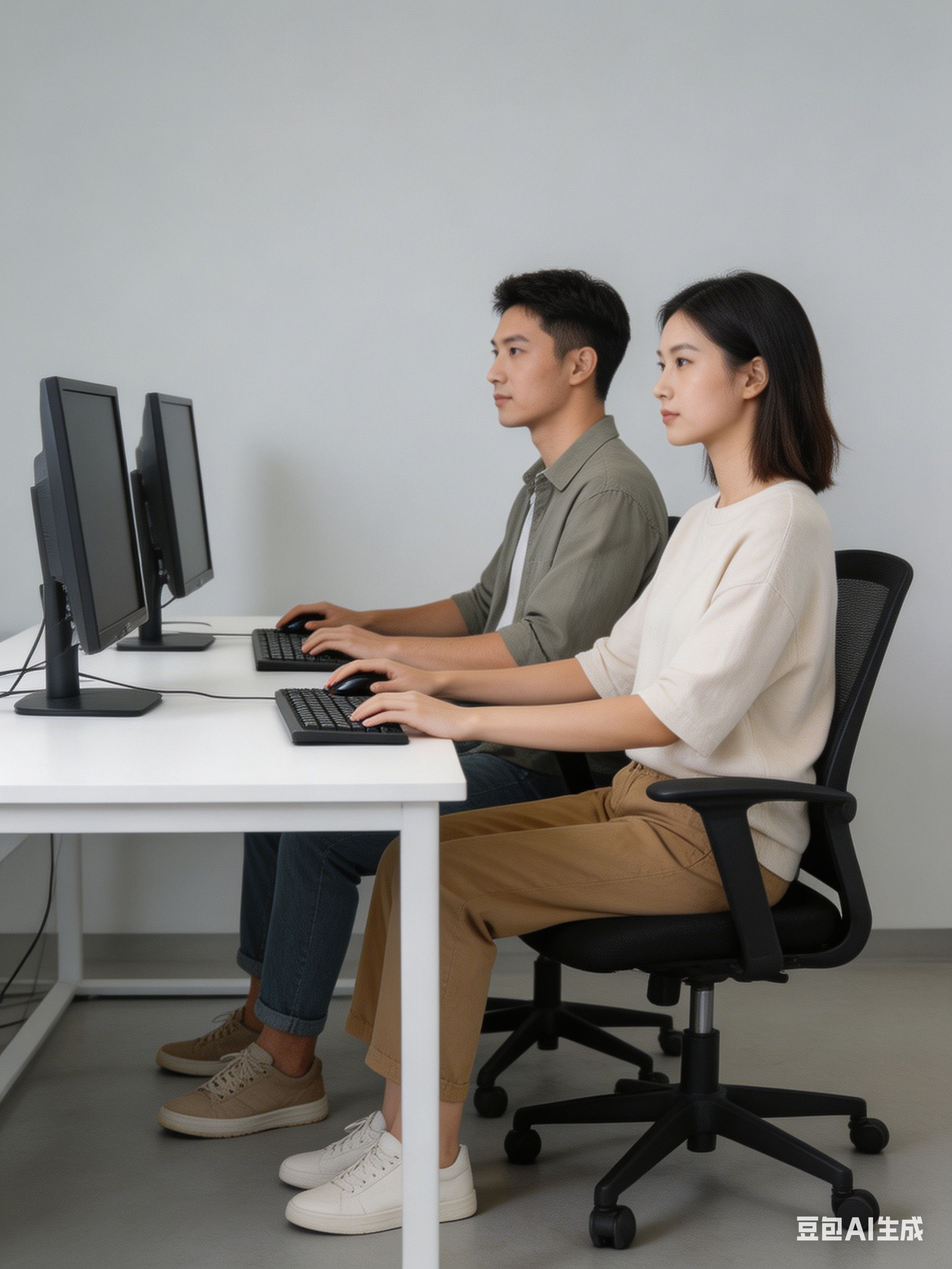sitting_good: (601, 273, 875, 1023), (306, 235, 654, 680)
